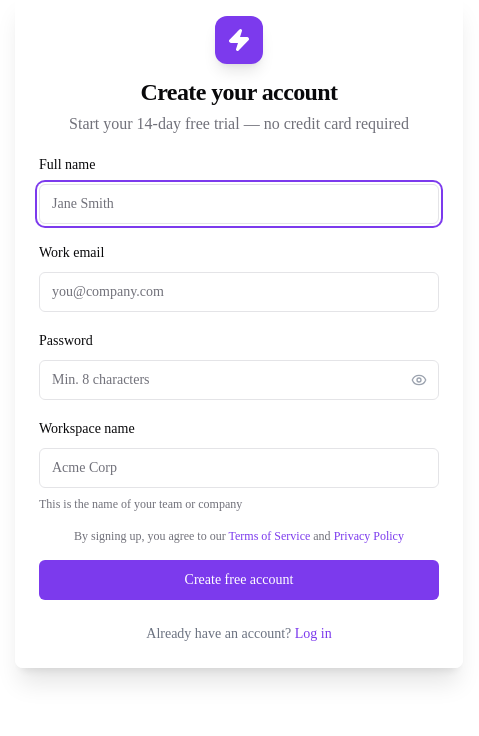
Scenario: SignupPage › shows "Medium password" strength label for medium-strength password
The width and height of the screenshot is (479, 736).
In the password field labelled "Password": point(239, 380) [39,360,439,400], type "Password1"
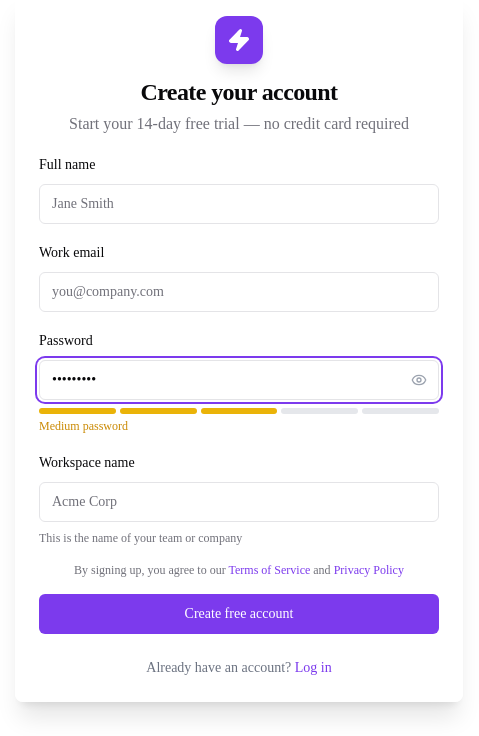
Now the text "Medium password" is shown, box [39,419,128,433]
